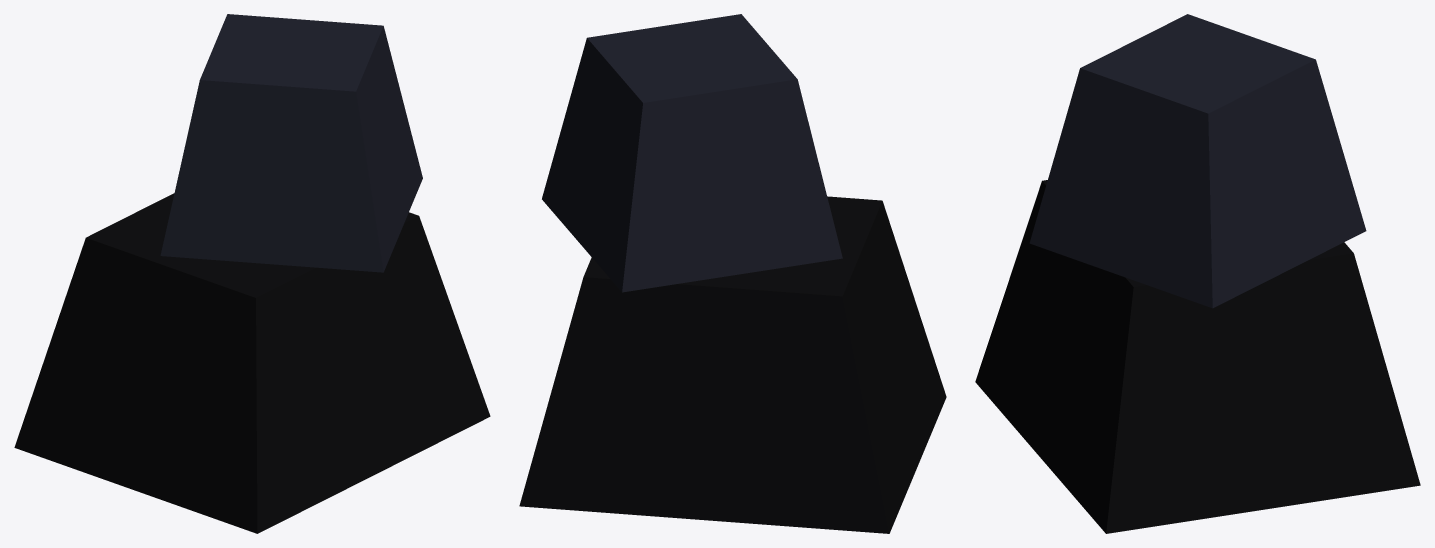
The model's file is coal.glb.
3 views of the same model, side by side, from view 1: azimuth 30°, elevation 25°; view 2: azimuth 150°, elevation 25°; view 3: azimuth 270°, elevation 25° (orthographic). The views are drawn at different scales.
Parts seen in each view (by area): view 1: coal; view 2: coal; view 3: coal.
Boxes of the visible parts, box(x1,y1,x2,y2) form: coal: box(14, 14, 490, 533); coal: box(519, 14, 946, 533); coal: box(975, 14, 1420, 533).
Bounding box in the file's own units: 0.1982 × 0.18 × 0.1863.
1 material, 1 textured.
